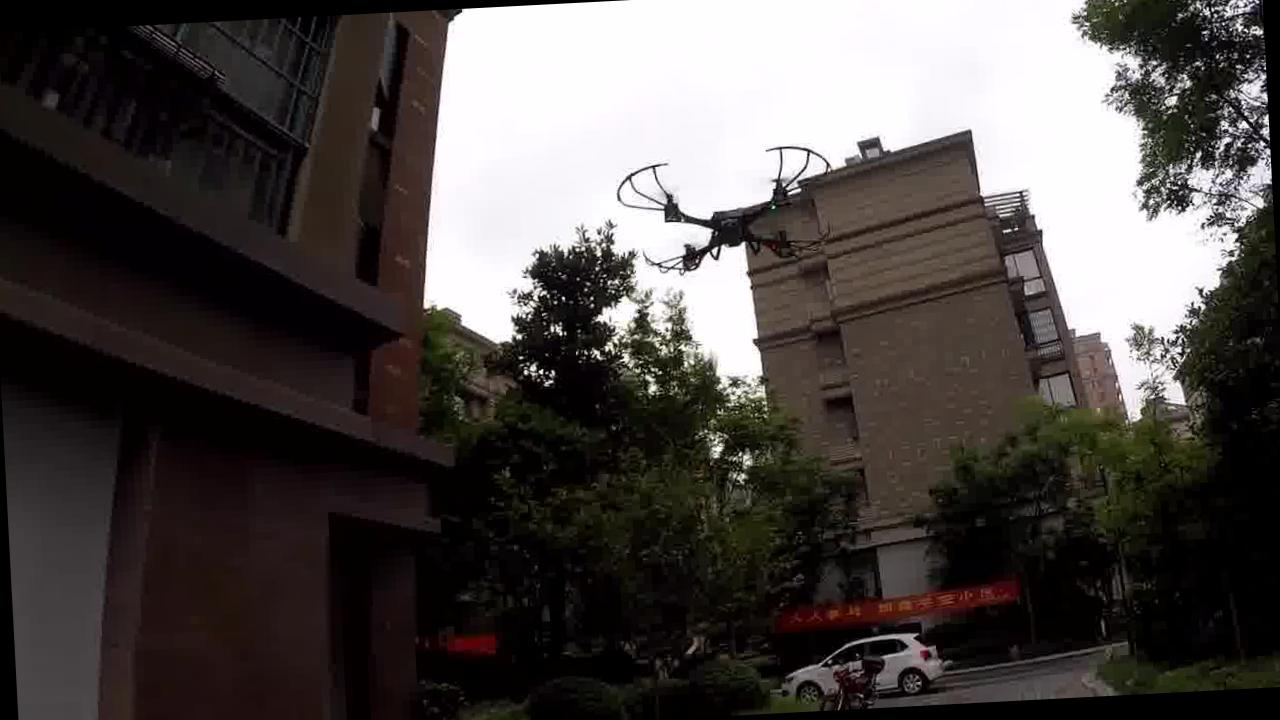drone: (602, 142, 834, 298)
